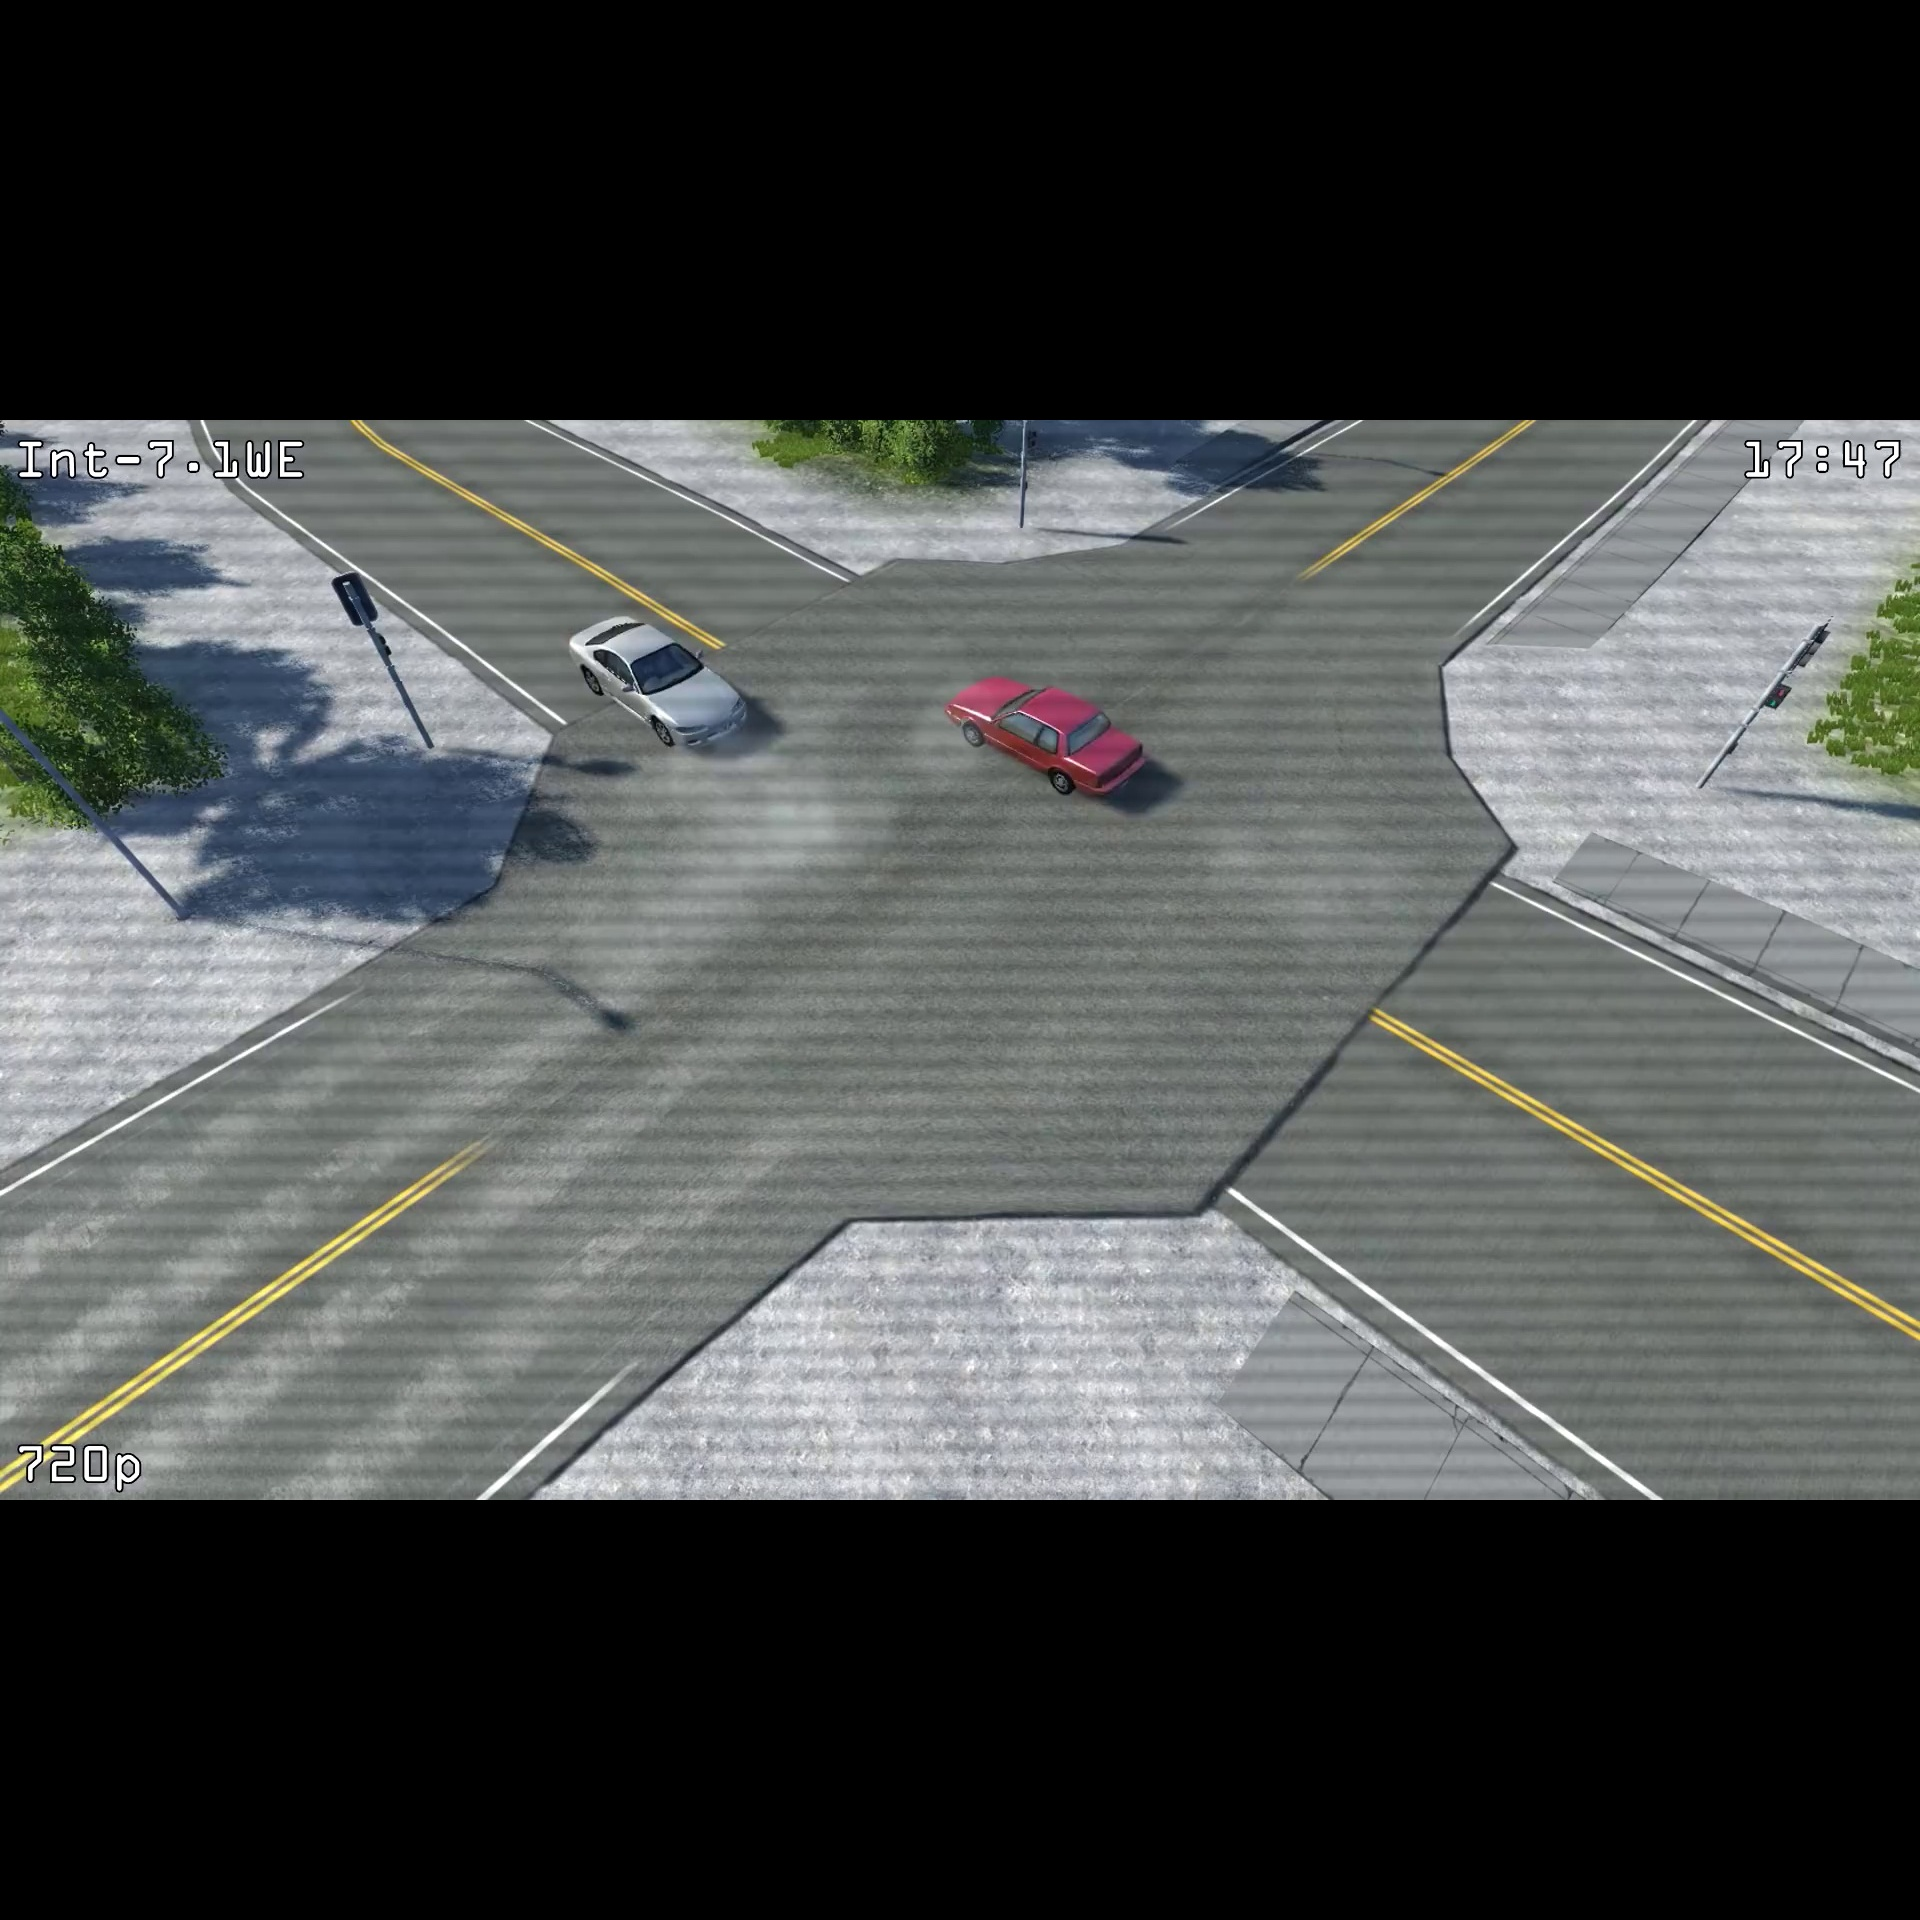vehicle: (937, 666, 1153, 807), (559, 601, 754, 754)
